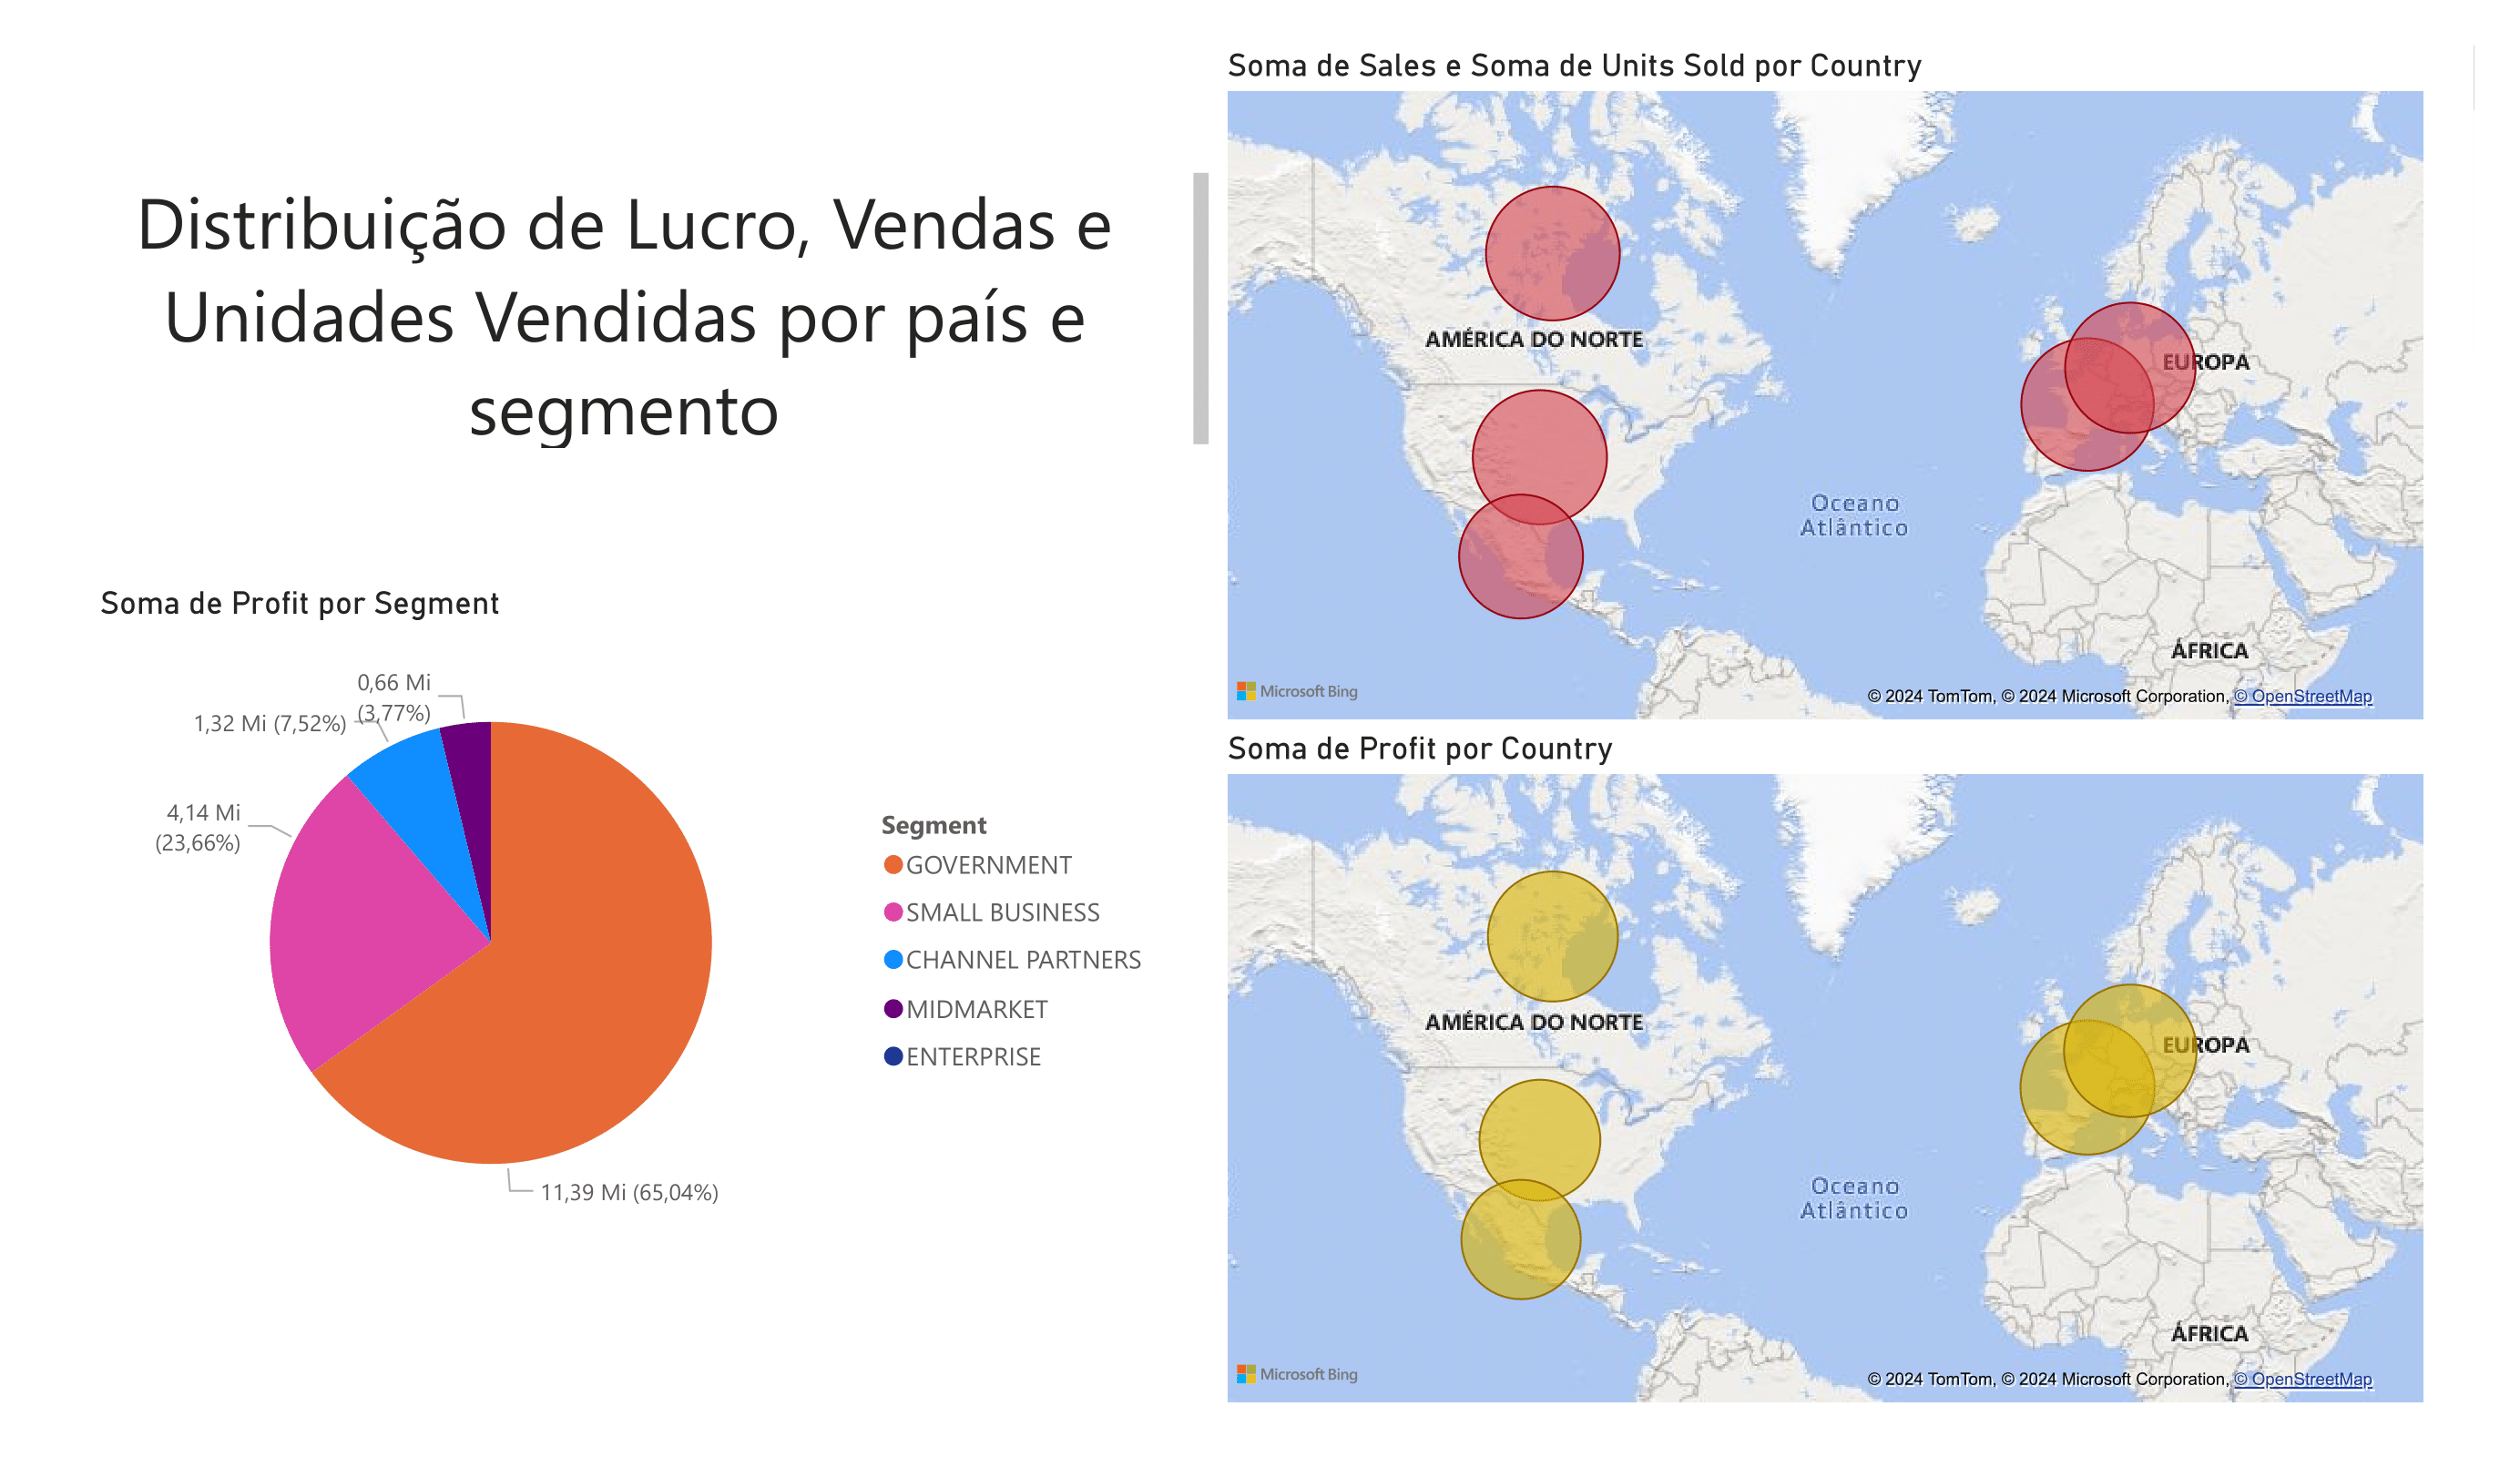

Layout of this report page (visuals, bound fields, positions):
{"tool":"powerbi","page":{"name":"Página 3","canvas":[1280,720],"ordinal":2},"visuals":[{"type":"pieChart","fields":{"Category":["financials.Segment"],"Y":["Sum(financials.Profit)"]},"box":[23.9,283.5,568.7,360],"z":0},{"type":"map","fields":{"Category":["financials.Country"],"Size":["Sum(financials. Sales)"]},"box":[618.1,0,640.4,360],"z":1000},{"type":"map","fields":{"Category":["financials.Country"],"Size":["Sum(financials.Profit)"]},"box":[618.1,360,640.4,360],"z":1001},{"type":"textbox","box":[0,62.1,618.1,154.5],"z":1002}]}

Visuals, with their boxes in screenshot pixels (x1, y1, x2, y2):
pieChart - financials.Segment x Sum(financials.Profit): detection(91, 584, 1170, 1267)
map - financials.Country x Sum(financials. Sales): detection(1219, 46, 2433, 728)
map - financials.Country x Sum(financials.Profit): detection(1219, 728, 2433, 1411)
textbox: detection(46, 163, 1219, 456)
